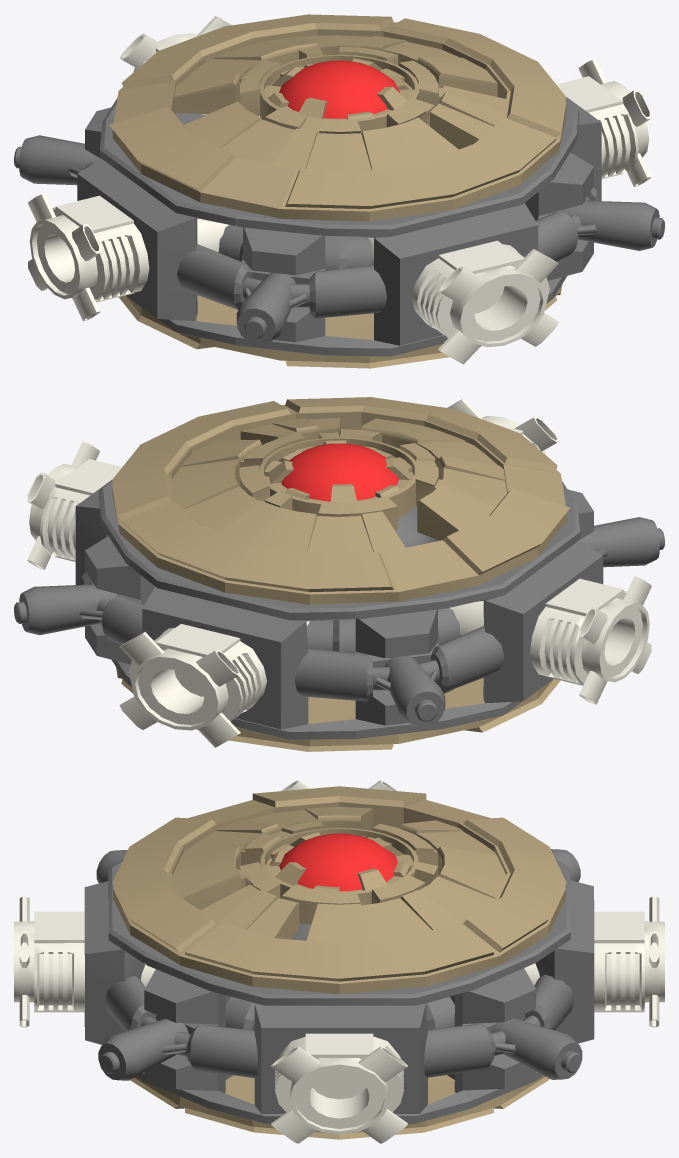
Rendered from enbanbokan_naosi.FBX.
The picture shows the model from 3 angles, top to bottom: view 1: azimuth 30°, elevation 25°; view 2: azimuth 150°, elevation 25°; view 3: azimuth 270°, elevation 25°; orthographic projection.
Parts seen in each view (by area): view 1: Cylinder003, accessory, zyuu1, zyuu004, zyuu002, Cylinder005, koa_omote, zyuu003; view 2: Cylinder003, accessory, zyuu003, zyuu004, zyuu002, Cylinder005, koa_omote, zyuu1; view 3: Cylinder003, accessory, zyuu002, zyuu003, zyuu1, Cylinder005, koa_omote.
Boxes of the visible parts, box(x1,y1,x2,y2) form: Cylinder003: box(109, 14, 566, 221); accessory: box(14, 97, 664, 356); zyuu1: box(368, 237, 558, 364); zyuu004: box(28, 193, 228, 321); zyuu002: box(556, 59, 650, 186); Cylinder005: box(119, 284, 562, 368); koa_omote: box(279, 60, 400, 118); zyuu003: box(120, 16, 260, 117); Cylinder003: box(112, 397, 569, 604); accessory: box(14, 480, 664, 739); zyuu003: box(119, 621, 309, 747); zyuu004: box(449, 576, 651, 704); zyuu002: box(27, 441, 121, 569); Cylinder005: box(116, 667, 560, 751); koa_omote: box(281, 443, 398, 501); zyuu1: box(447, 398, 559, 454); Cylinder003: box(112, 786, 566, 993); accessory: box(84, 849, 594, 1124); zyuu002: box(271, 1033, 407, 1143); zyuu003: box(524, 896, 664, 1027); zyuu1: box(14, 896, 155, 1027); Cylinder005: box(130, 1075, 549, 1139); koa_omote: box(279, 833, 397, 891).
Bounding box in the file's own units: 53.54 × 21.97 × 53.54.
